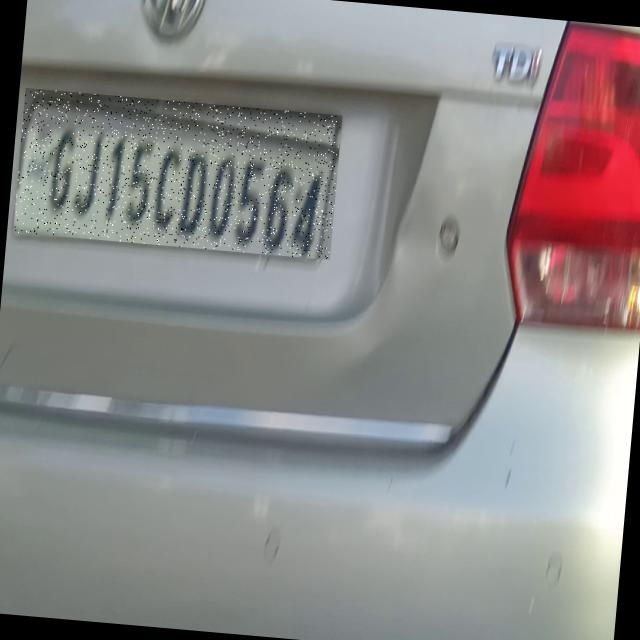Plate: (14, 89, 343, 261)
